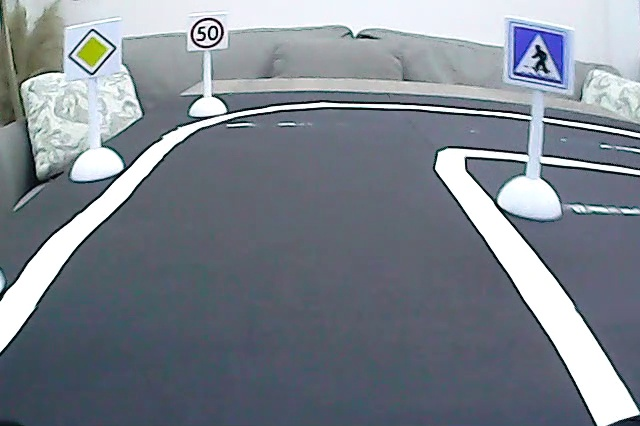pedestrian crossing: (508, 20, 569, 88)
speed limit 50: (188, 17, 227, 51)
